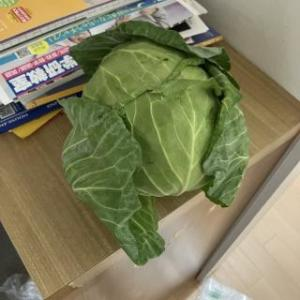cabbage: (57, 18, 251, 266)
